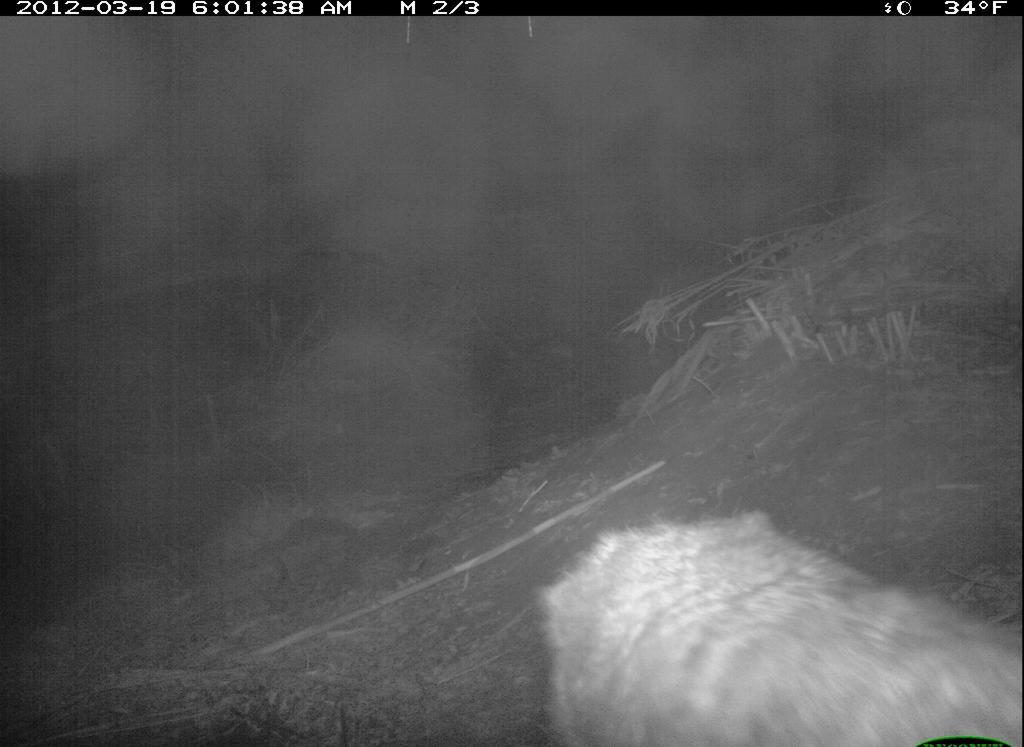coyote: (525, 500, 1019, 742)
